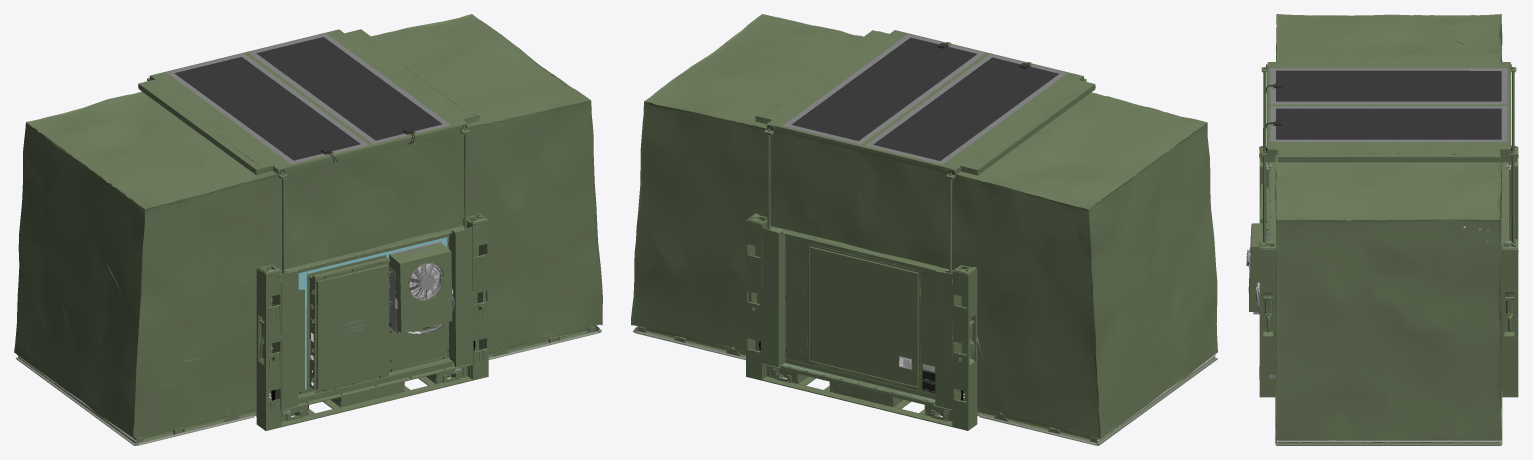
The model's file is trecc-open.glb.
3 renders of one model, left to right at view 1: azimuth 30°, elevation 25°; view 2: azimuth 150°, elevation 25°; view 3: azimuth 270°, elevation 25°, orthographic. The views are drawn at different scales.
Parts seen in each view (by area): view 1: Solid4340; view 2: Solid4340; view 3: Solid4340.
Part boxes in pixels (x1,y1,x2,y2): Solid4340: (14, 14, 602, 445); Solid4340: (631, 14, 1217, 445); Solid4340: (1246, 14, 1518, 445).
Bounding box in the file's own units: 4.52 × 2.35 × 2.39.
